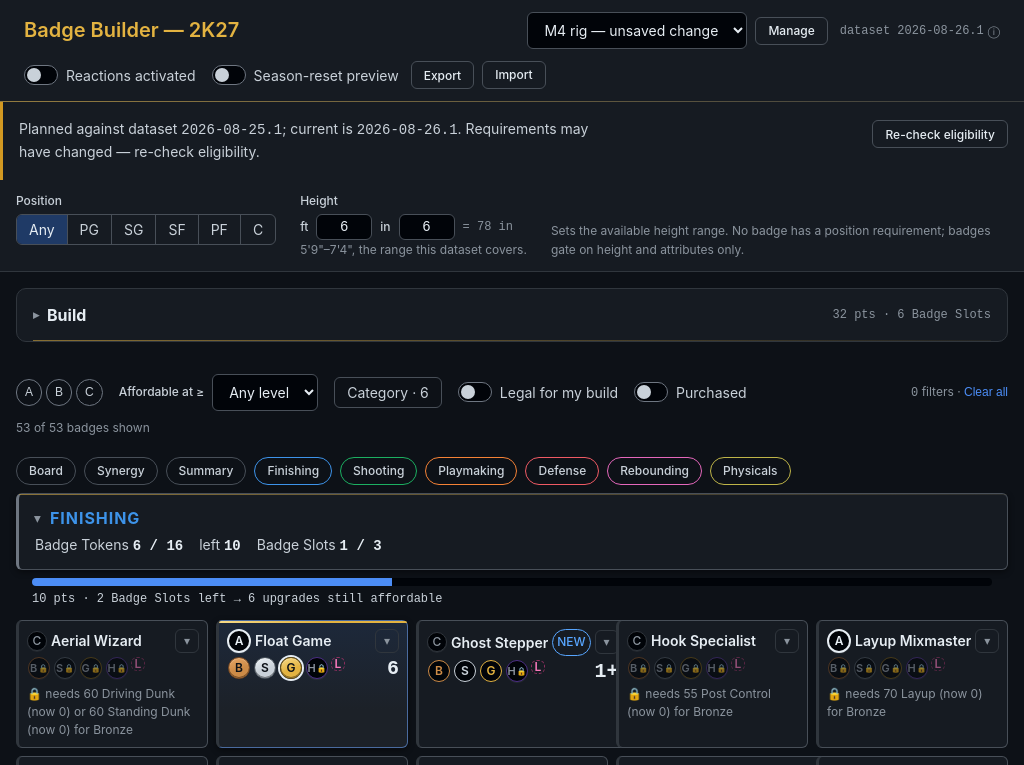
F4 group 5 — a pre-F4 saved build under the bumped dataset › the re-check reports ZERO purchased badges newly failing — only descriptions were added
Click the button "Re-check eligibility": [940, 134] box [872,120,1008,148]
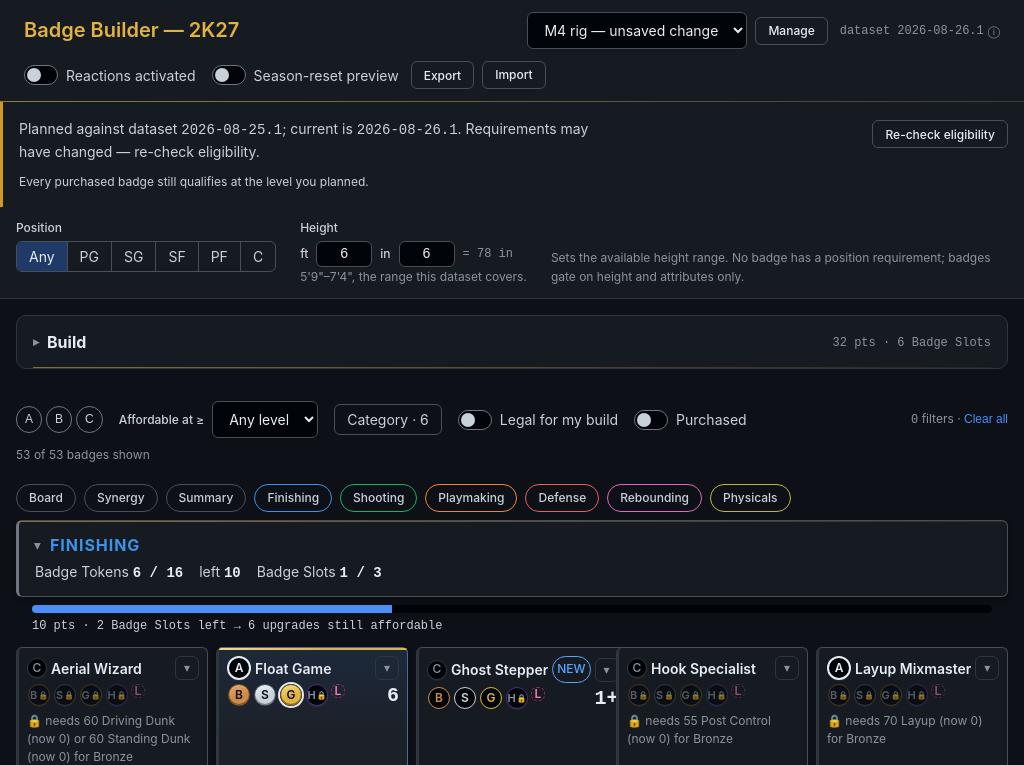
Expected: the text "Every purchased badge still qualifies at the level you planned." is shown, [19,174,369,189]
